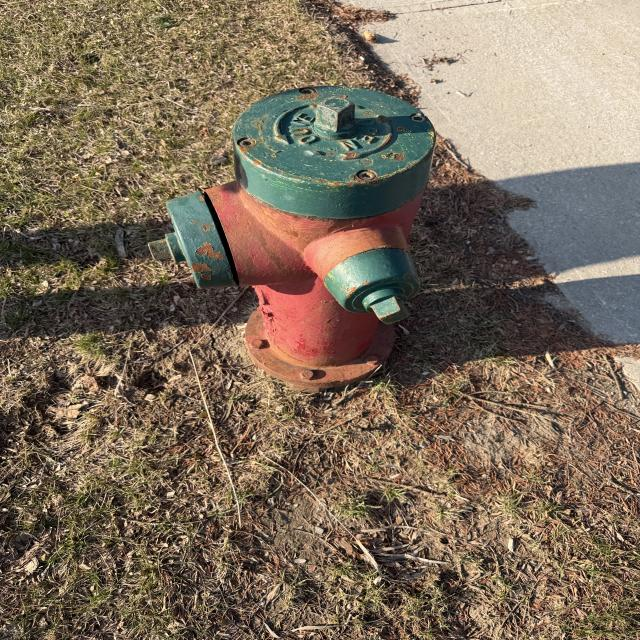Fire hydrant: (147, 85, 437, 392)
